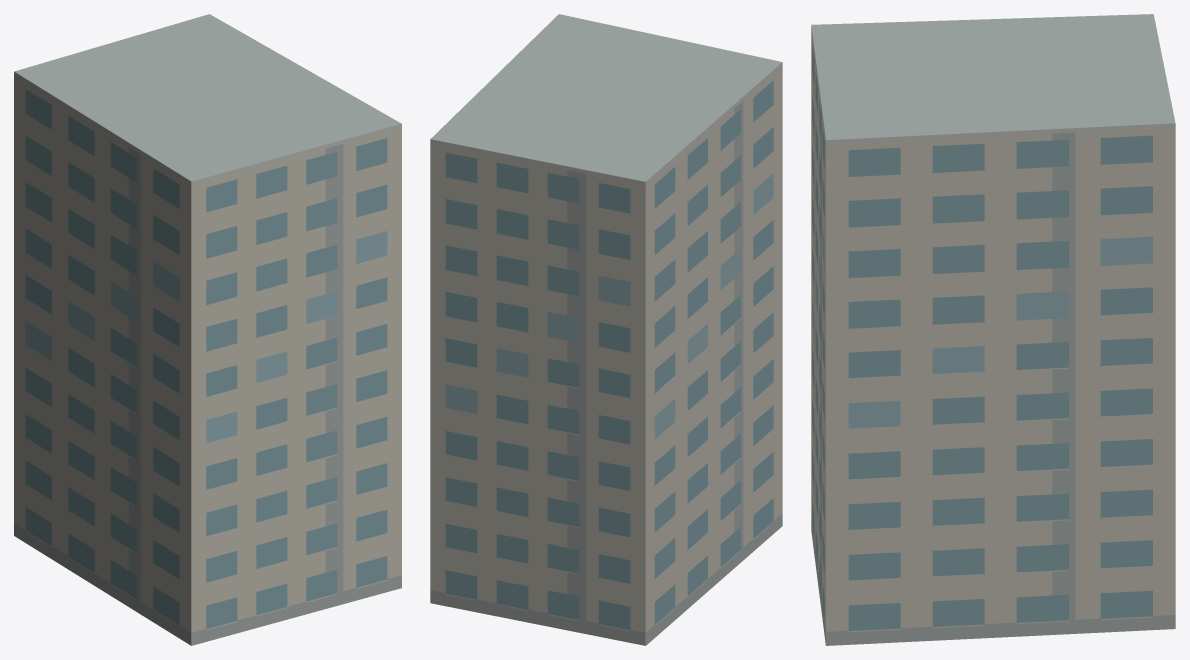
File: residential-d6e6034a-1b63-4ee8-a147-946a70abe7ba.glb
3 renders of one model, left to right at view 1: azimuth 30°, elevation 25°; view 2: azimuth 150°, elevation 25°; view 3: azimuth 270°, elevation 25°, orthographic. The views are drawn at different scales.
Visible parts, largest first — view 1: residential-d6e6034a-1b63-4ee8-a147-946a70abe7ba.tmp; view 2: residential-d6e6034a-1b63-4ee8-a147-946a70abe7ba.tmp; view 3: residential-d6e6034a-1b63-4ee8-a147-946a70abe7ba.tmp.
Boxes of the visible parts, box(x1,y1,x2,y2) form: residential-d6e6034a-1b63-4ee8-a147-946a70abe7ba.tmp: box(14, 14, 401, 645); residential-d6e6034a-1b63-4ee8-a147-946a70abe7ba.tmp: box(430, 14, 782, 645); residential-d6e6034a-1b63-4ee8-a147-946a70abe7ba.tmp: box(811, 14, 1175, 645).
Bounding box in the file's own units: 15.52 × 29 × 18.94.
